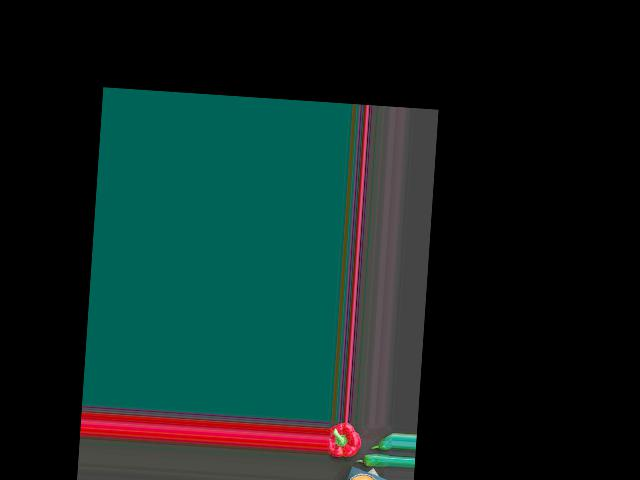bell_pepper: (328, 422, 361, 458)
